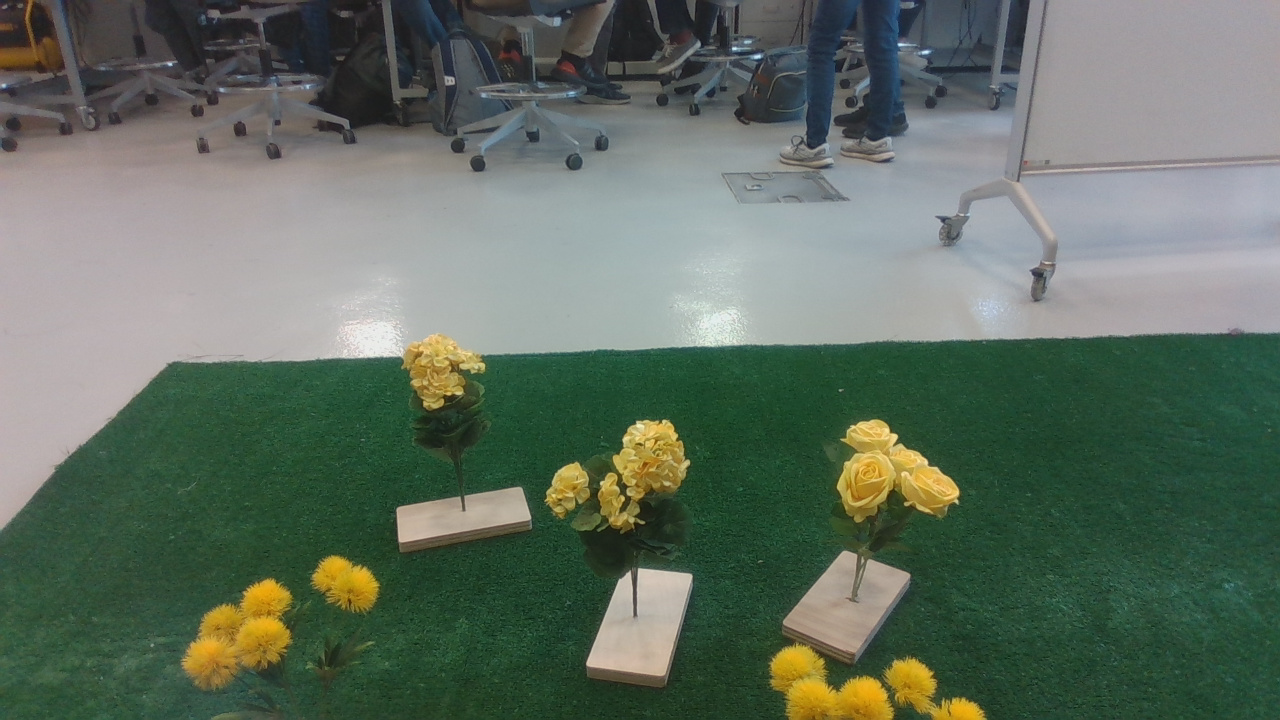dandelion: (173, 555, 404, 714), (764, 652, 1003, 720)
geranium: (546, 413, 707, 570), (400, 335, 508, 475)
rose: (799, 417, 986, 563)
